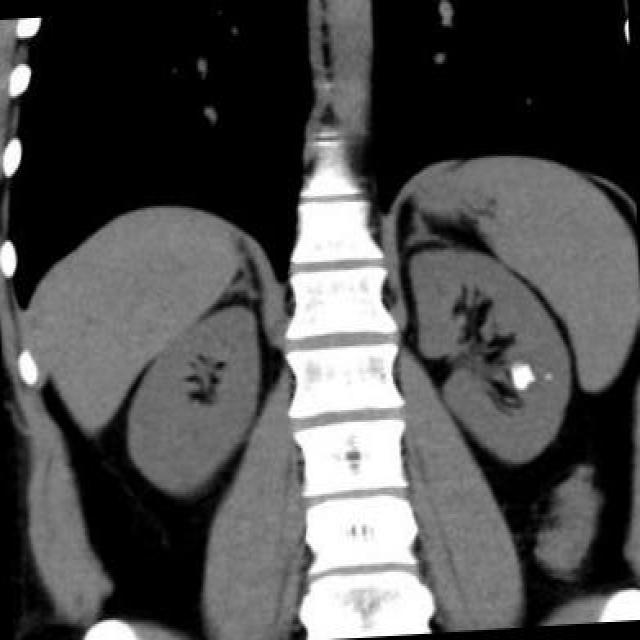Tas_Var: (504, 362, 539, 392), (542, 371, 555, 383)
